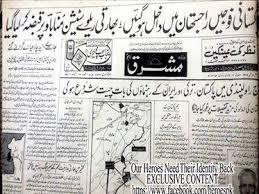Printing industry: (4, 2, 259, 194)
